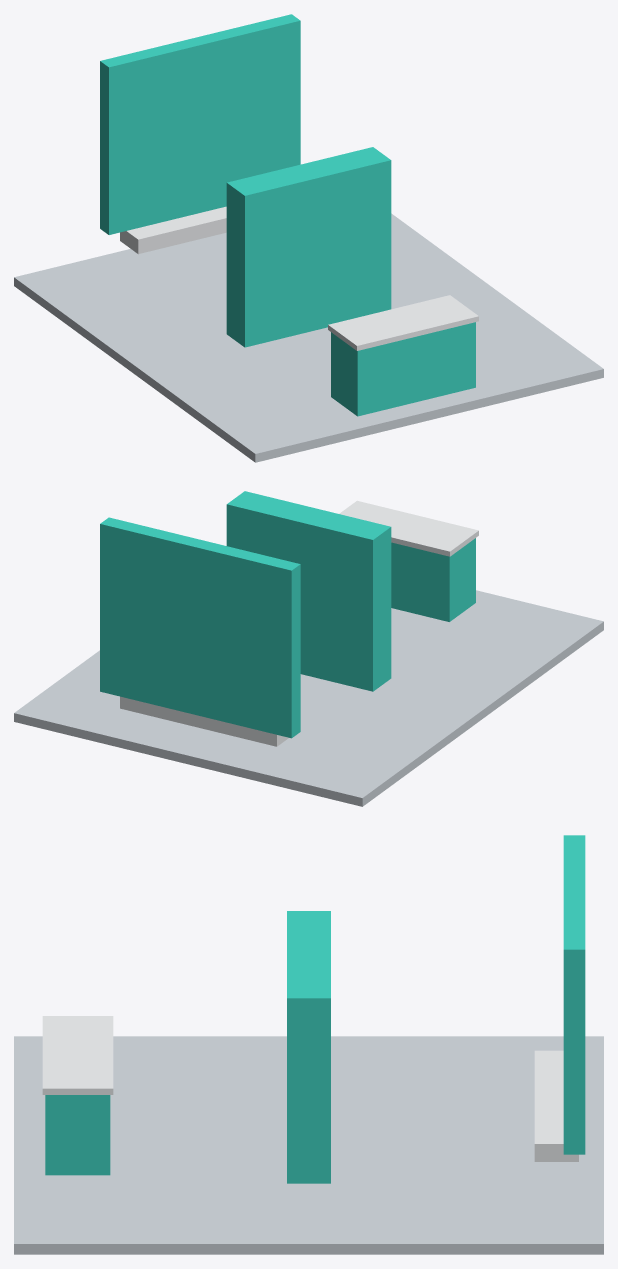
The picture shows the model from 3 angles, top to bottom: view 1: azimuth 30°, elevation 25°; view 2: azimuth 150°, elevation 25°; view 3: azimuth 270°, elevation 25°; orthographic projection. The views are drawn at different scales.
Parts seen in each view (by area): view 1: Exhibition Booth Concept; view 2: Exhibition Booth Concept; view 3: Exhibition Booth Concept.
Part boxes in pixels (x1,y1,x2,y2): Exhibition Booth Concept: (14, 14, 603, 462); Exhibition Booth Concept: (14, 491, 603, 806); Exhibition Booth Concept: (14, 835, 603, 1254).
Size of the model in its own units: 5 by 2.9 by 6.
